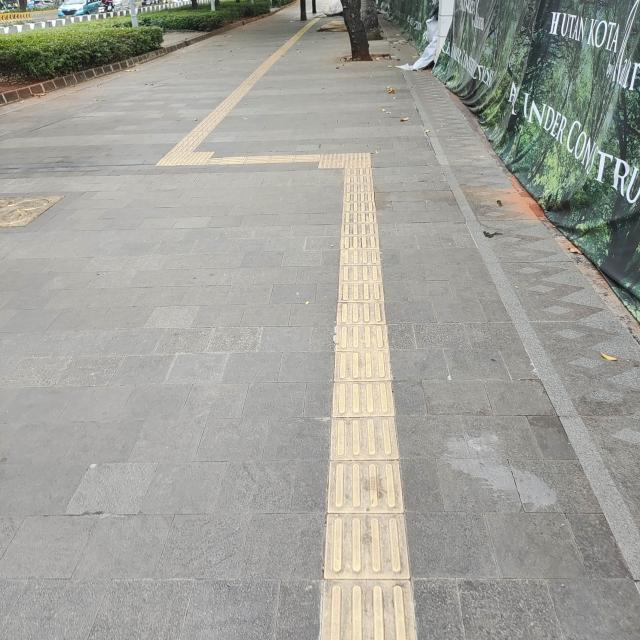kiri: (274, 137, 390, 186)
